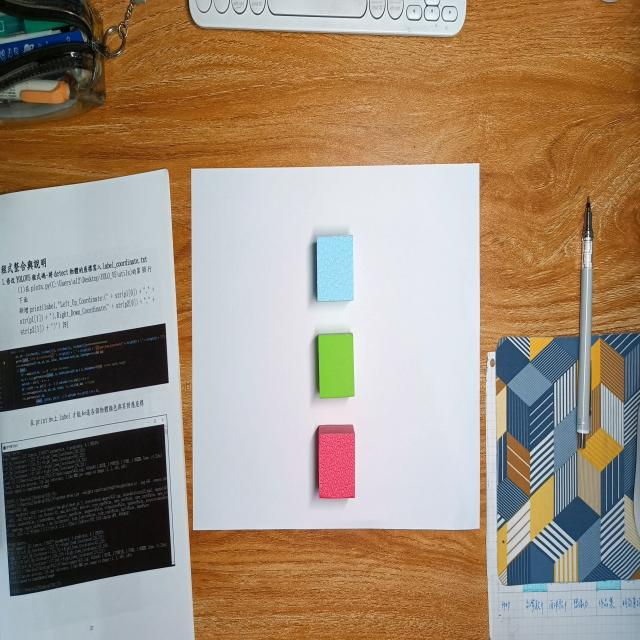BLUE: (313, 233, 355, 302)
GREEN: (318, 331, 355, 402)
RED: (317, 425, 355, 497)
